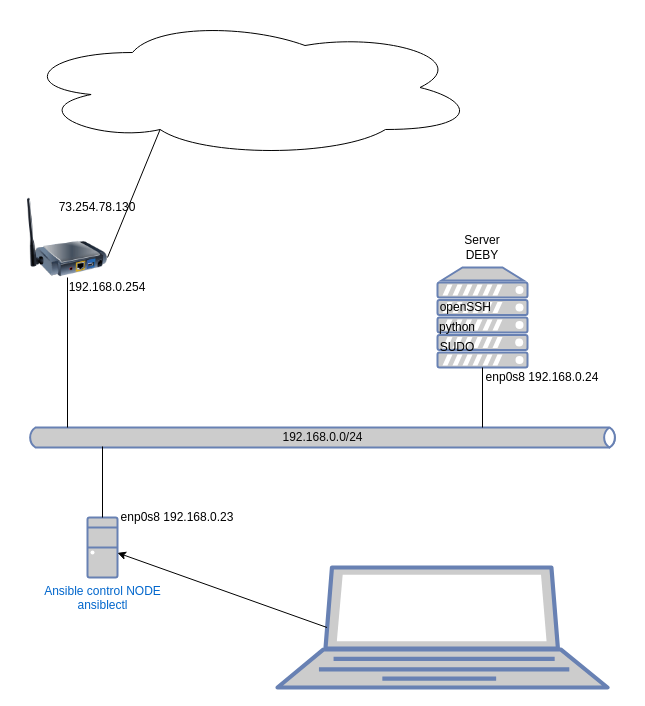
This 645x706 diagram has some shape labels left out. The shapes that lost their labels are listed below. From the top down, each one's centre as x and y in pixels, then its label:
At point 247,87: "internet".
At point 442,627: "VSCode : ssh stagiaire@192.168.0.23".
